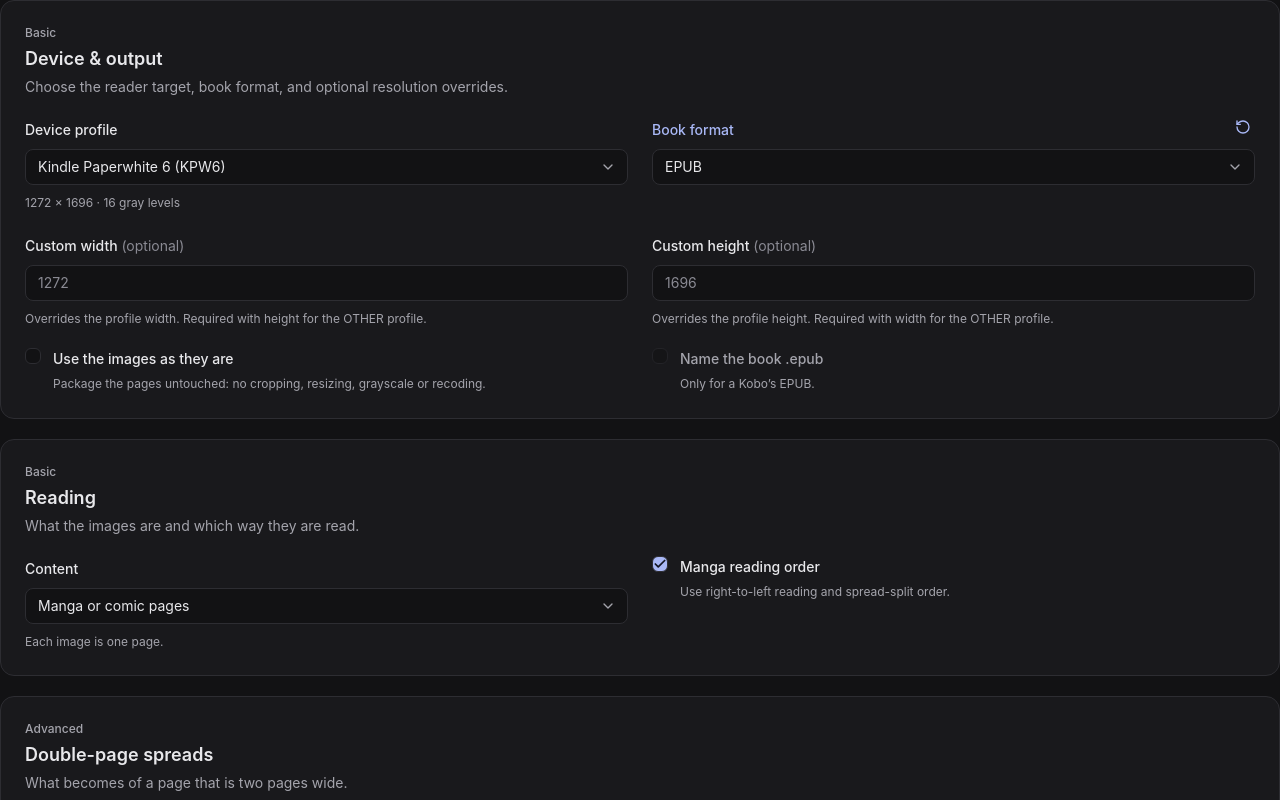
Scenario: mangapress settings editor › locks what webtoon strips never use, and leaves cropping between panels
Check: the text "Each image is one page." is shown, box [25, 634, 164, 648]
Select "Webtoon strips" in the dropdown labelled "Content" at (326, 606), box [25, 588, 628, 624]
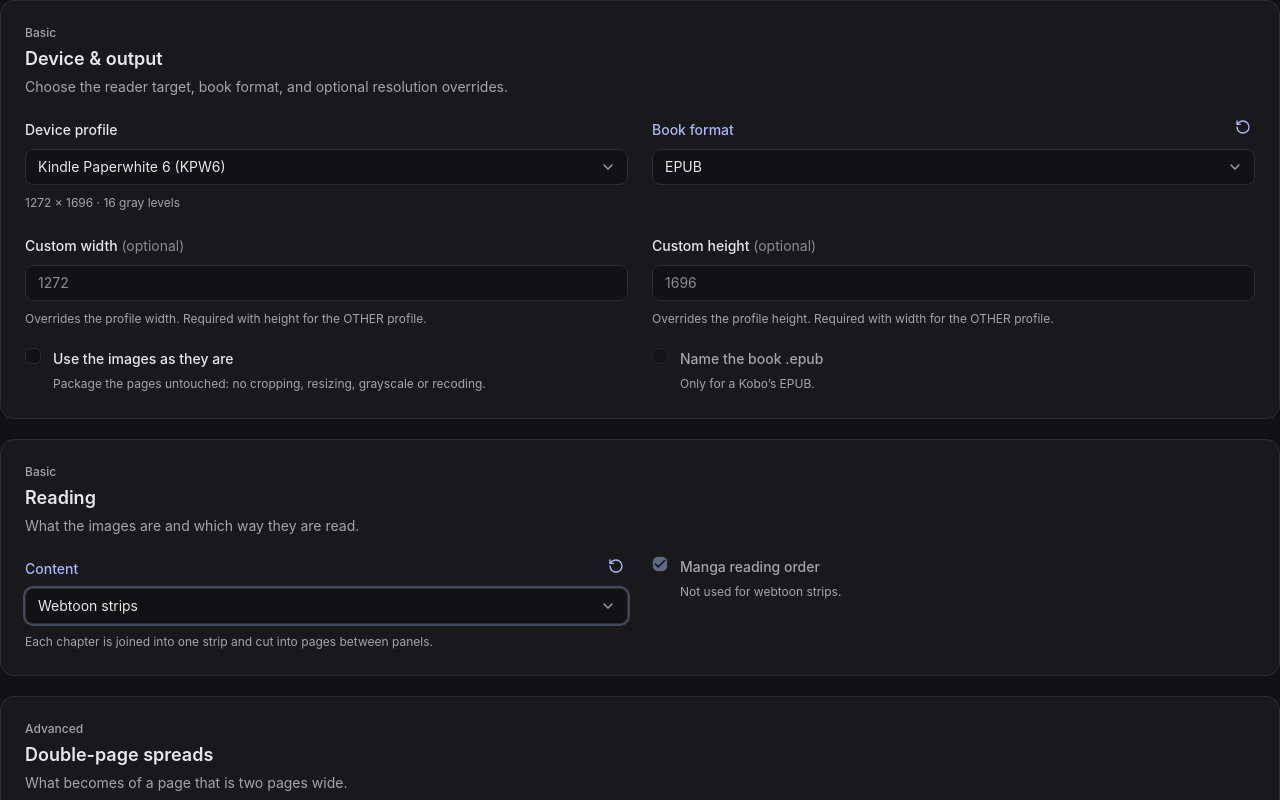
Check: the checkbox named "Manga reading order" next to "Manga reading order" is checked, box [652, 556, 668, 572]
Check: the text "Each chapter is joined into one strip and cut into pages between panels." is shown, box [25, 634, 433, 648]
Check: the checkbox named "Manga reading order" next to "Manga reading order" is disabled, box [652, 556, 668, 572]
Click the button named "Restore default for Content".
click(616, 566)  # box [604, 554, 628, 578]
(page scrolled)
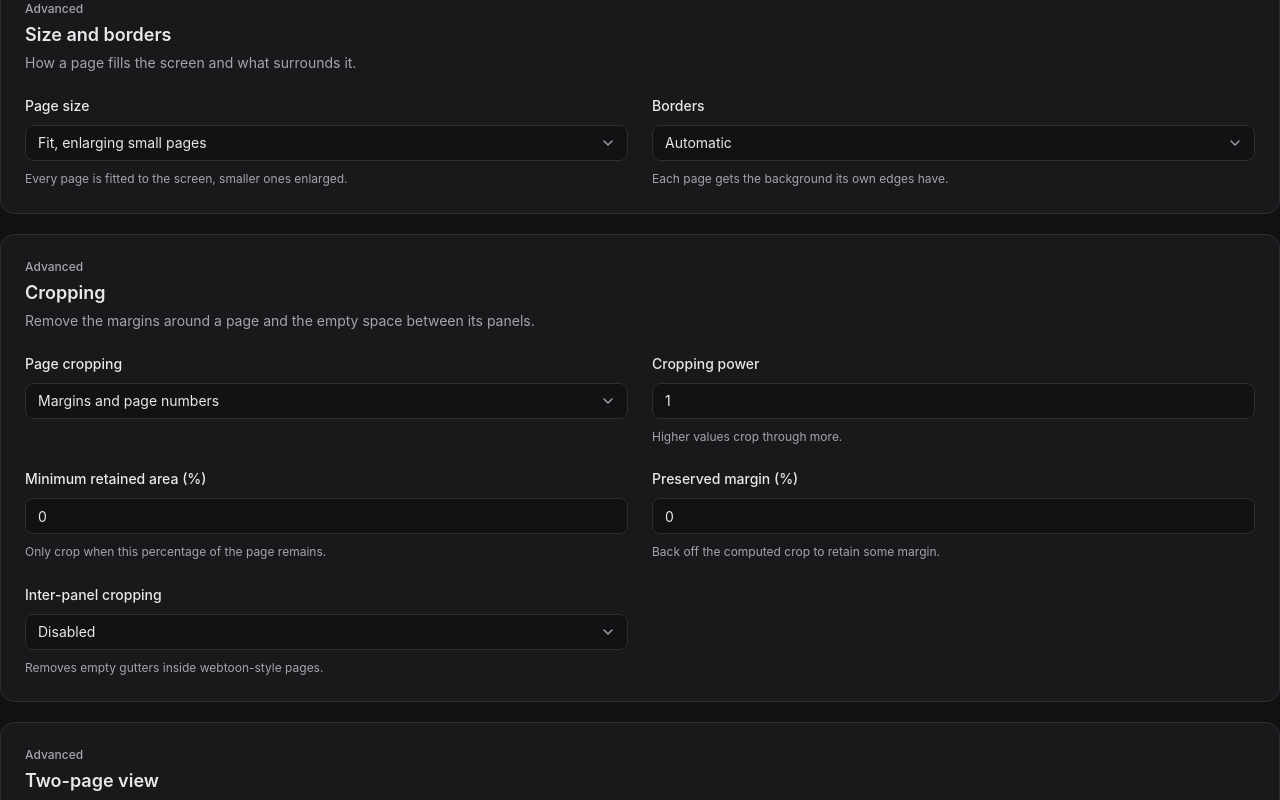
Check: the dropdown labelled "Page cropping" is enabled, box [25, 382, 628, 418]
